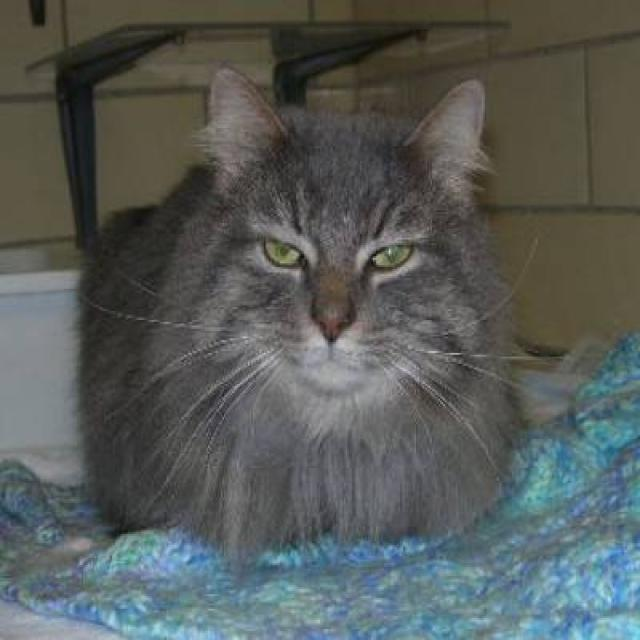cat: (72, 64, 533, 576)
